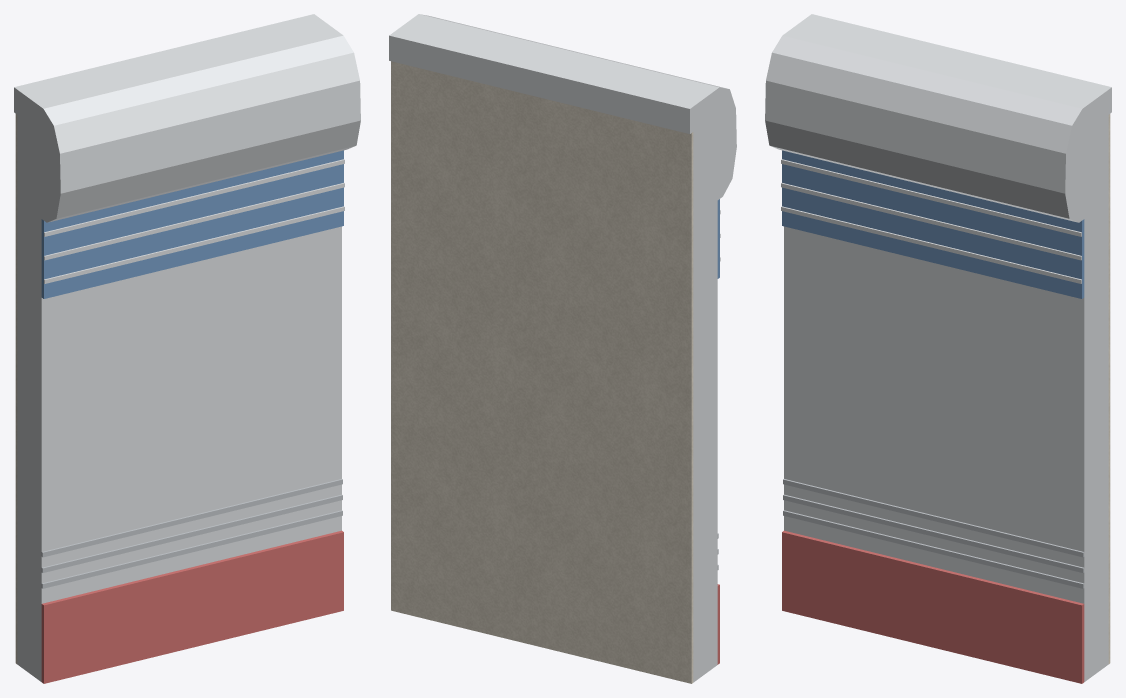
The model's file is wall_diner_plain.glb.
3 views of the same model, side by side, from view 1: azimuth 30°, elevation 25°; view 2: azimuth 150°, elevation 25°; view 3: azimuth 330°, elevation 25° (orthographic).
Parts seen in each view (by area): view 1: wall_diner_plain_steel, wall_diner_plain_enamel_red, wall_diner_plain_enamel, wall_diner_plain_steel_dark, wall_diner_plain_plaster; view 2: wall_diner_plain_plaster, wall_diner_plain_steel; view 3: wall_diner_plain_steel, wall_diner_plain_enamel_red, wall_diner_plain_enamel, wall_diner_plain_steel_dark, wall_diner_plain_plaster.
Part boxes in pixels (x1,y1,x2,y2): wall_diner_plain_steel: (14, 14, 360, 681); wall_diner_plain_enamel_red: (41, 530, 343, 683); wall_diner_plain_enamel: (41, 150, 343, 298); wall_diner_plain_steel_dark: (41, 479, 342, 588); wall_diner_plain_plaster: (15, 114, 17, 663); wall_diner_plain_plaster: (391, 61, 693, 683); wall_diner_plain_steel: (389, 14, 736, 682); wall_diner_plain_steel: (765, 14, 1111, 681); wall_diner_plain_enamel_red: (782, 530, 1084, 683); wall_diner_plain_enamel: (782, 150, 1084, 298); wall_diner_plain_steel_dark: (783, 479, 1084, 588); wall_diner_plain_plaster: (1108, 114, 1110, 663).
Size of the model in its own units: 2 by 3.66 by 0.54.
Materials: 5 (1 with a texture image).
